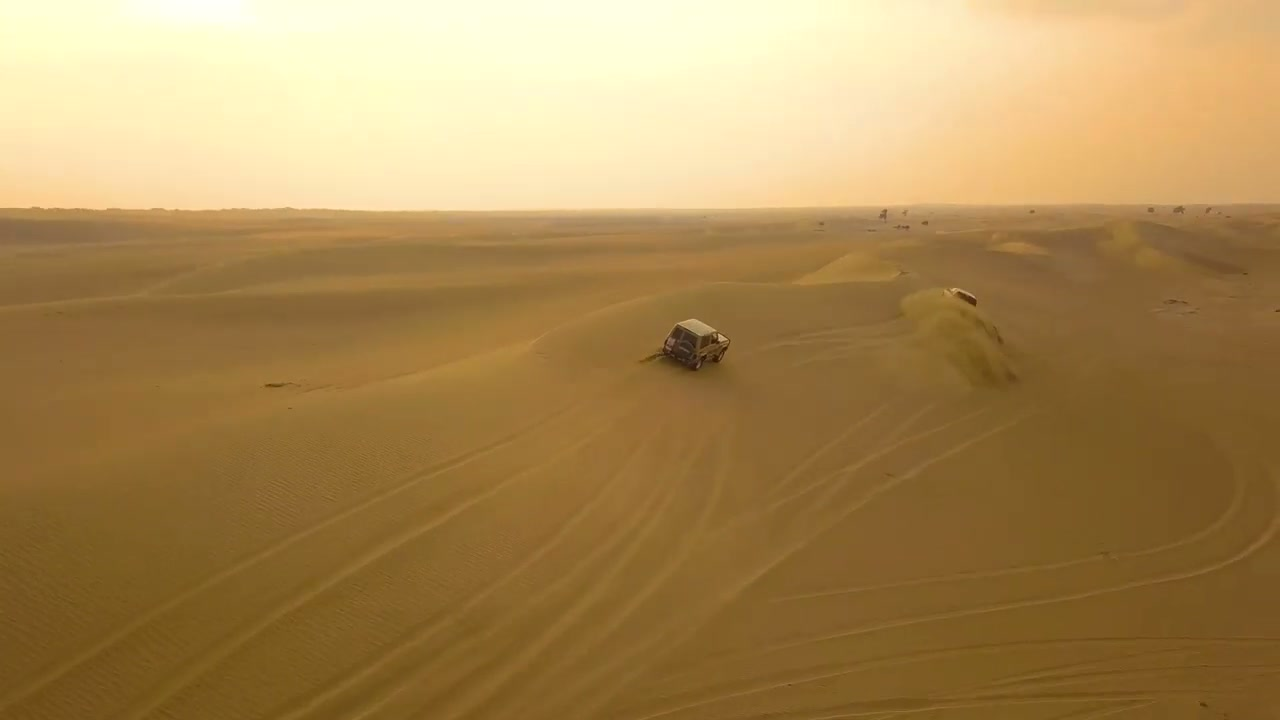vehicle_track: (0, 399, 584, 715), (118, 403, 635, 719), (749, 473, 1279, 656), (760, 476, 1279, 651), (649, 412, 1033, 647), (272, 470, 622, 719), (347, 488, 673, 717), (774, 478, 1245, 601), (539, 422, 732, 716), (622, 636, 1279, 719), (770, 402, 889, 493)
